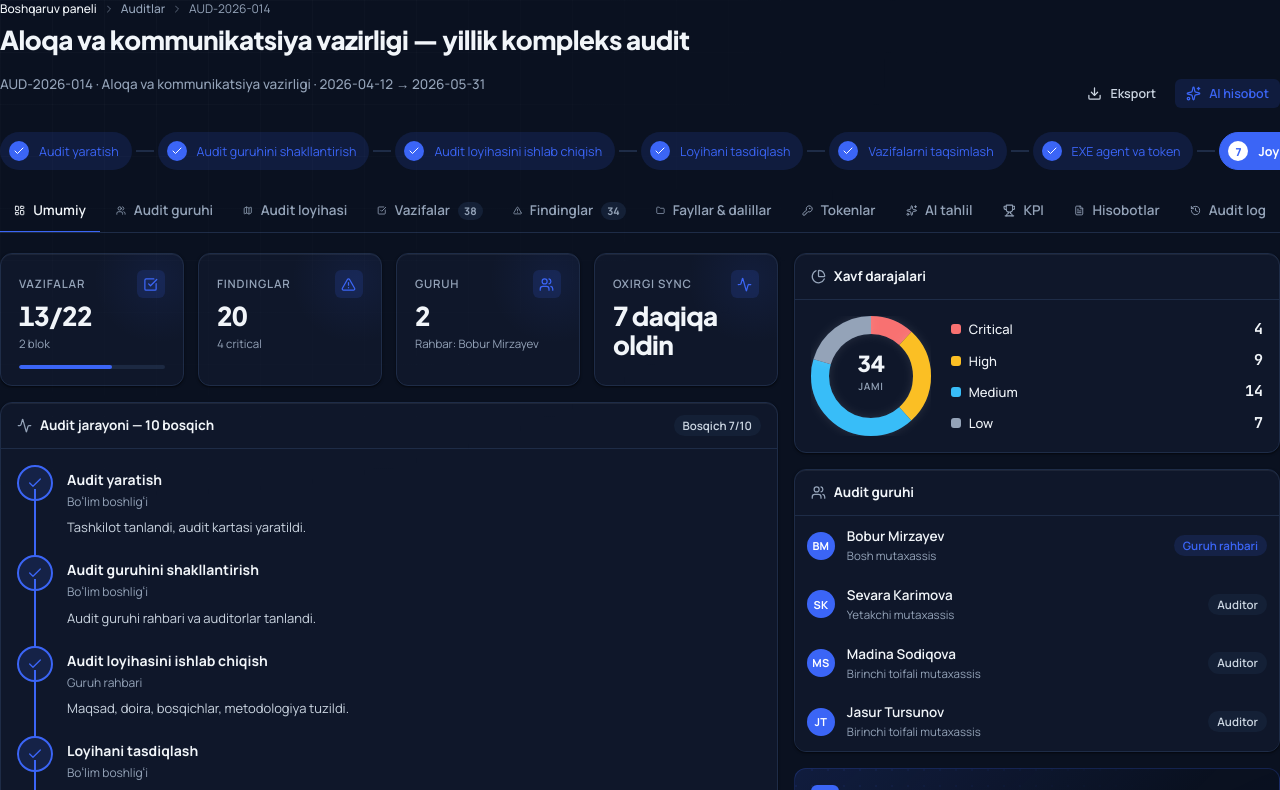
Test case: AuditDetailScreen › opens the Group tab with member rows
Click the tab "Audit guruhi": (165, 212) top-left (102, 190), bottom-right (227, 233)
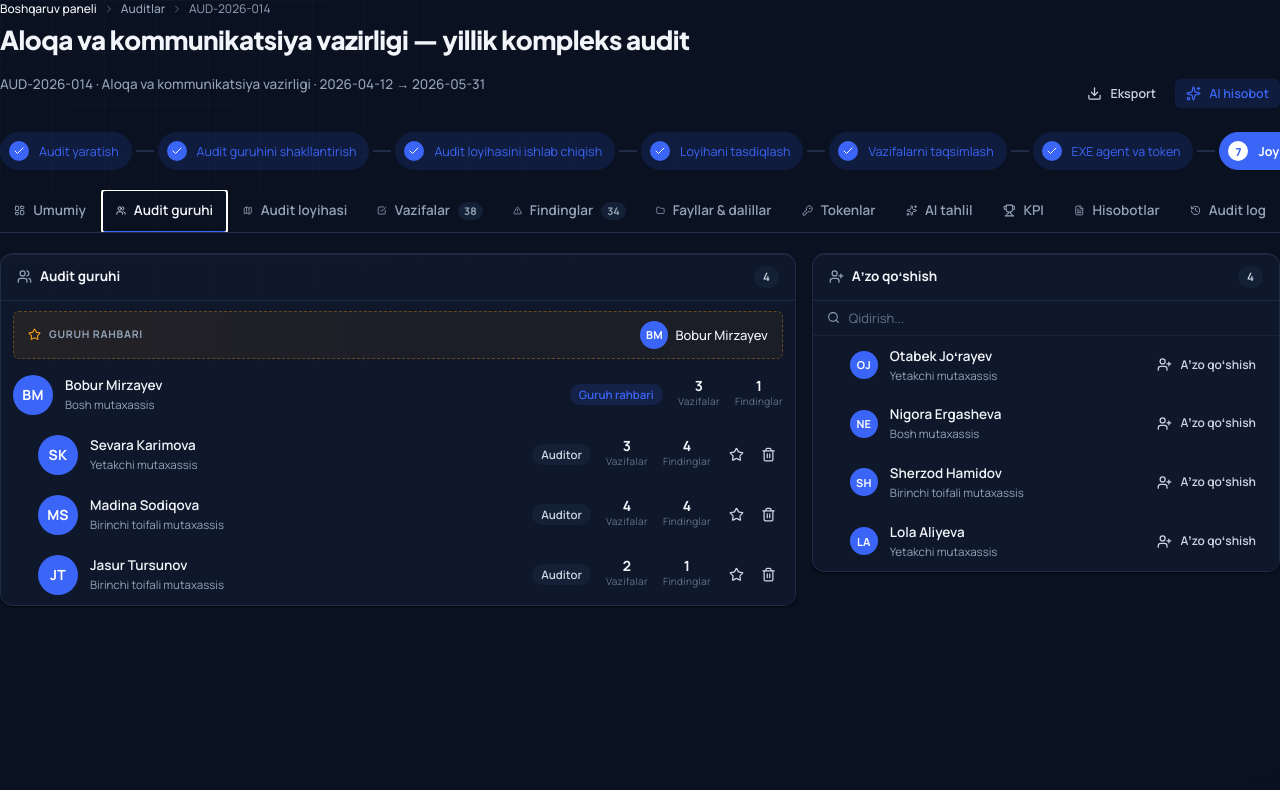
Now the text "Bobur Mirzayev" is shown, box top-left (675, 326), bottom-right (768, 344)
